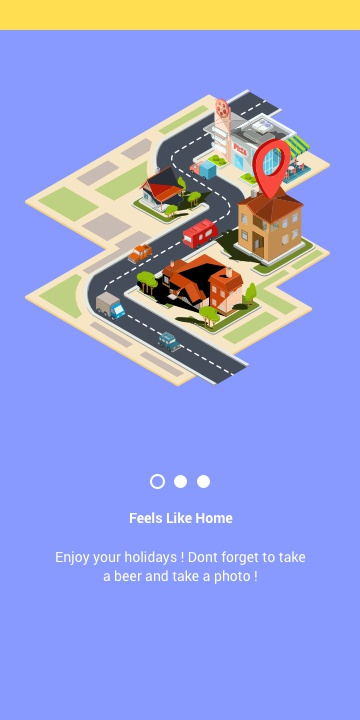Image: (25, 89, 331, 389)
PageIndicator: (149, 472, 213, 492)
Text: (55, 550, 307, 586), (129, 511, 234, 525)
